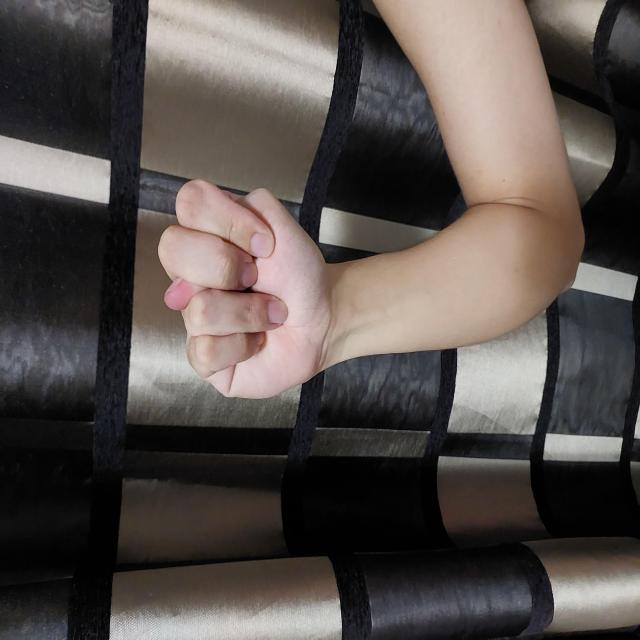N: (238, 156, 464, 335)
